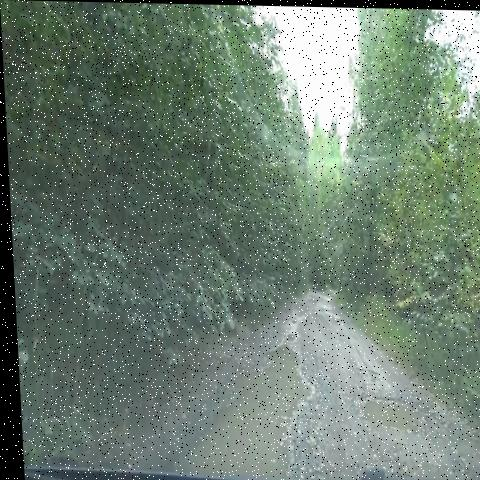pothole: (150, 327, 327, 480), (343, 390, 426, 442)
